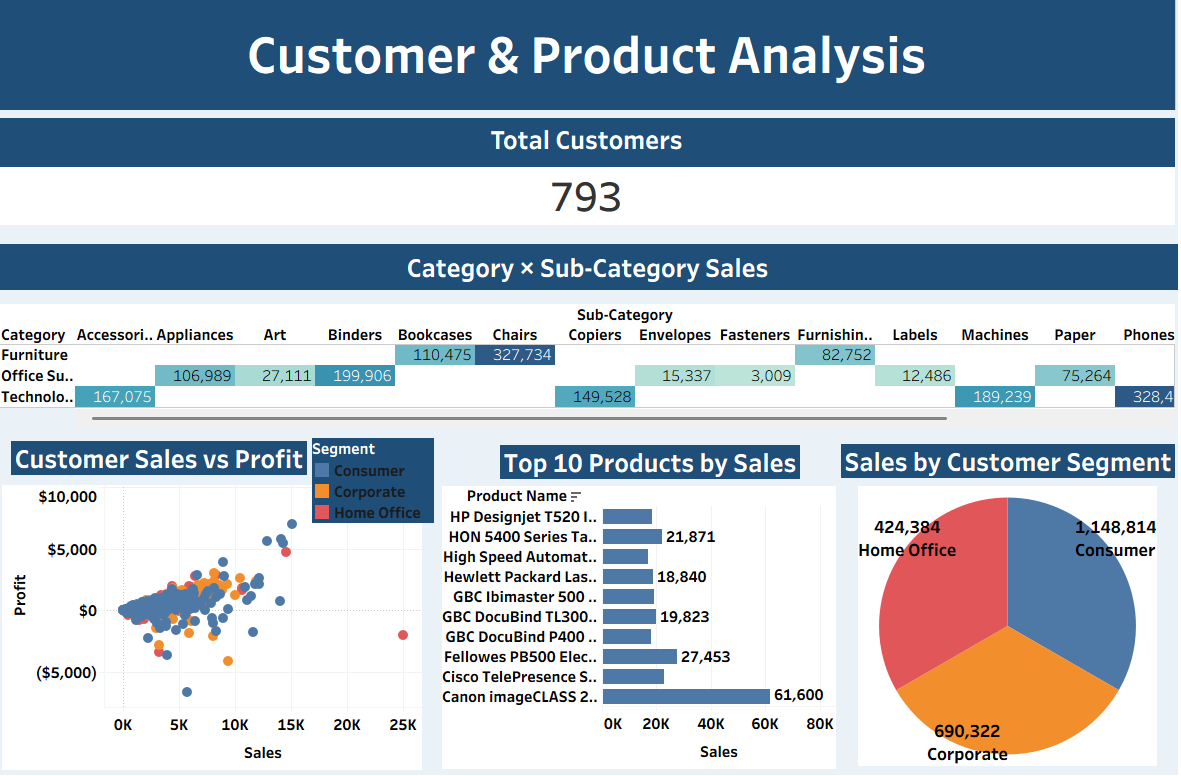

Layout of this report page (visuals, bound fields, positions):
{"tool":"tableau","page":{"name":"Customer & Product Analysis","canvas":[1200,800],"ordinal":0},"visuals":[{"type":"text","box":[12,13,1177,114]},{"type":"worksheet","title":"Total Customers 1","mark":"Automatic","box":[12,135,1177,107]},{"type":"text","box":[11,261,1181,46]},{"type":"worksheet","title":"Category × Sub-Category Sales","mark":"Square","rows":["Category"],"cols":["Sub-Category"],"box":[9,321,1180,144]},{"type":"legend","title":"Customer Sales vs Profit","param":"[federated.1i7p8ud0yrlsvh18nw4hg09q55qu].[none:Segment:nk]","box":[326,455,122,85]},{"type":"text","box":[25,458,296,34]},{"type":"text","box":[855,461,334,34]},{"type":"text","box":[514,462,300,34]},{"type":"worksheet","title":"Customer Sales vs Profit","mark":"Circle","rows":["Profit"],"cols":["Sales"],"box":[16,502,420,285]},{"type":"worksheet","title":"Top 10 Products by Sales","mark":"Automatic","rows":["Product Name"],"cols":["Sales"],"box":[456,503,394,284]},{"type":"worksheet","title":"Sales by Customer Segment","mark":"Pie","box":[872,503,299,280]}]}

Visuals, with their boxes in screenshot pixels (x1, y1, x2, y2), scaled from the page's 1200x800 canvas onto the 1181x776 screenshot:
text: (x1=12, y1=13, x2=1170, y2=123)
"Total Customers 1" worksheet: (x1=12, y1=131, x2=1170, y2=235)
text: (x1=11, y1=253, x2=1173, y2=298)
"Category × Sub-Category Sales" worksheet (Square marks): (x1=9, y1=311, x2=1170, y2=451)
"Customer Sales vs Profit" legend: (x1=321, y1=441, x2=441, y2=524)
text: (x1=25, y1=444, x2=316, y2=477)
text: (x1=841, y1=447, x2=1170, y2=480)
text: (x1=506, y1=448, x2=801, y2=481)
"Customer Sales vs Profit" worksheet (Circle marks): (x1=16, y1=487, x2=429, y2=763)
"Top 10 Products by Sales" worksheet: (x1=449, y1=488, x2=837, y2=763)
"Sales by Customer Segment" worksheet (Pie marks): (x1=858, y1=488, x2=1152, y2=760)
